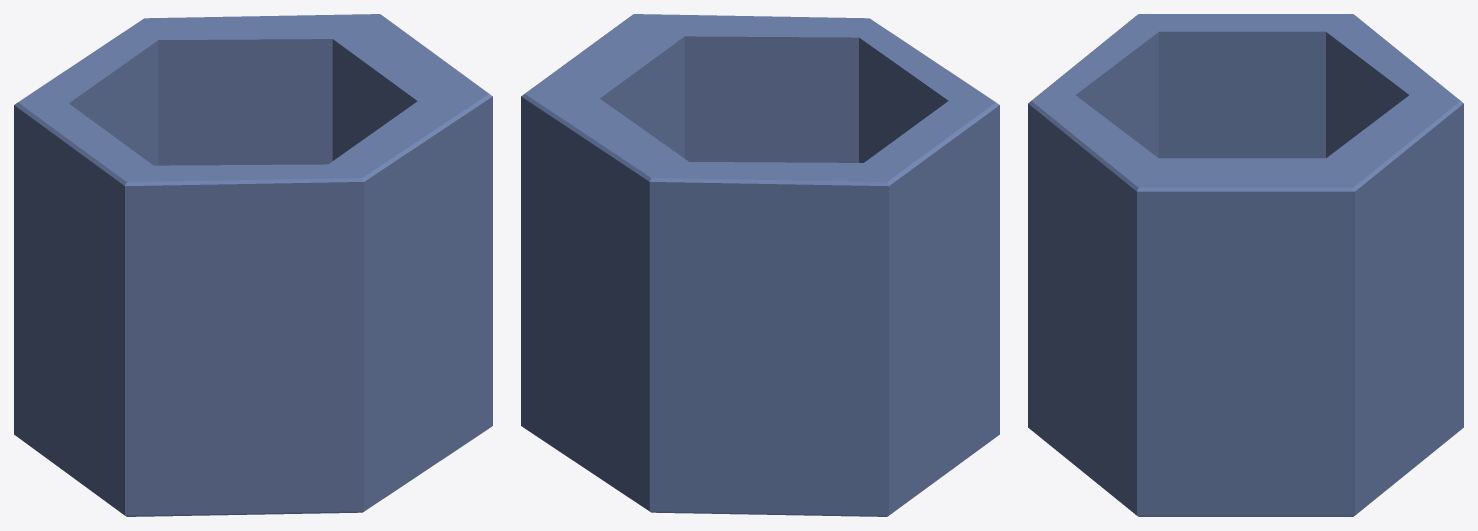
The model's file is Brave Gogo-Curcan.glb.
The picture shows the model from 3 angles, left to right: view 1: azimuth 30°, elevation 25°; view 2: azimuth 150°, elevation 25°; view 3: azimuth 270°, elevation 25°; orthographic projection.
Visible parts, largest first — view 1: Mesh_Mesh_head_geo.001_lambert2SG.001; view 2: Mesh_Mesh_head_geo.001_lambert2SG.001; view 3: Mesh_Mesh_head_geo.001_lambert2SG.001.
Boxes of the visible parts, x1,y1,x2,y2 form: Mesh_Mesh_head_geo.001_lambert2SG.001: (14, 14, 492, 516); Mesh_Mesh_head_geo.001_lambert2SG.001: (521, 14, 999, 516); Mesh_Mesh_head_geo.001_lambert2SG.001: (1028, 14, 1463, 516).
Size of the model in its own units: 23 by 20 by 24.
